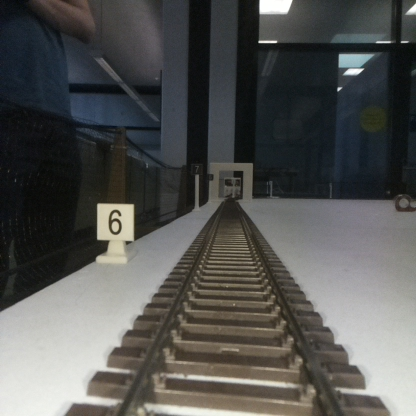black-info-7: (192, 162, 201, 211)
white-stop-6: (96, 203, 133, 260)
